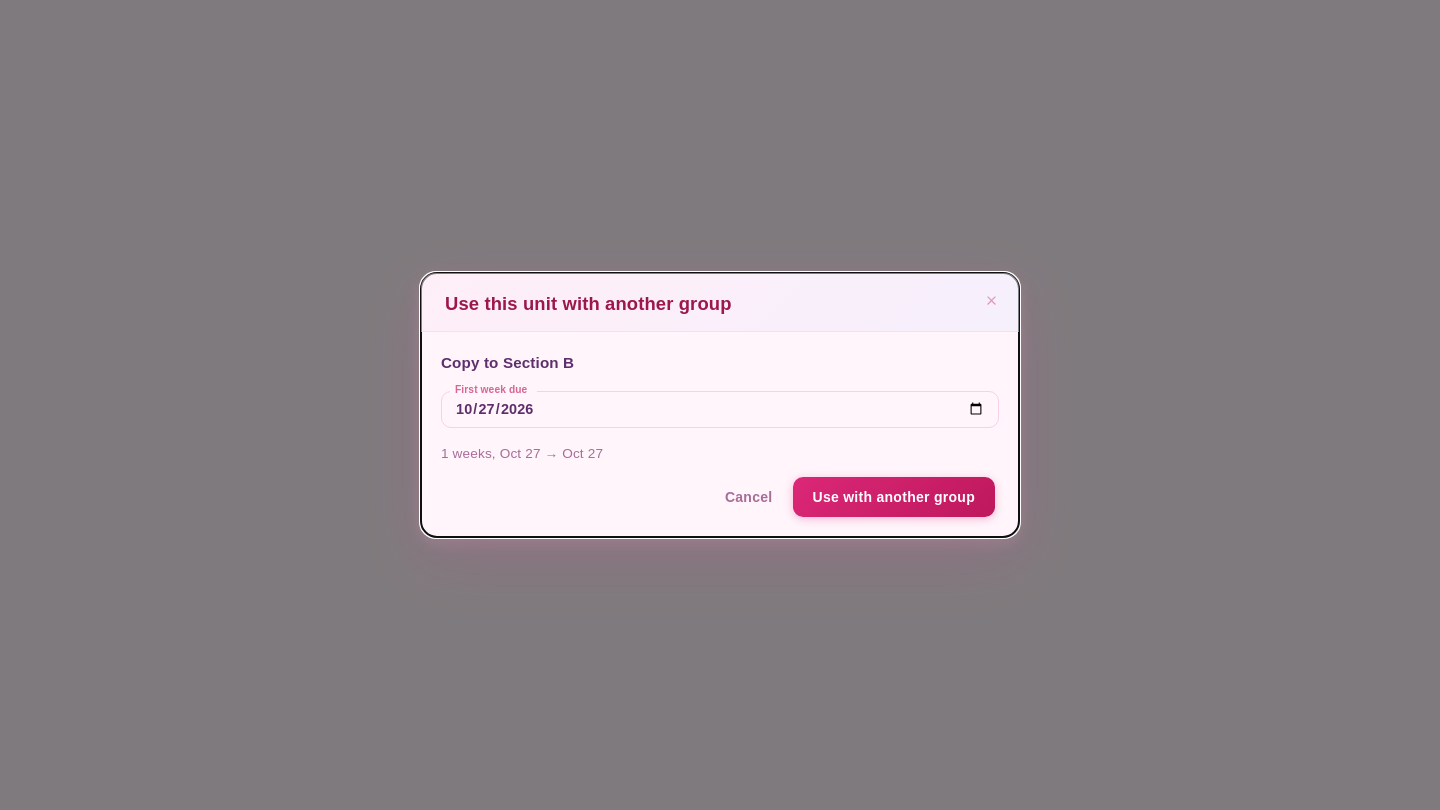
Test: CopyUnitDialog › shows the "every week already handed out" message on a nothing_to_copy outcome
The width and height of the screenshot is (1440, 810).
Click the button "Use with another group" at (894, 497), box x1=792 y1=477 x2=995 y2=517
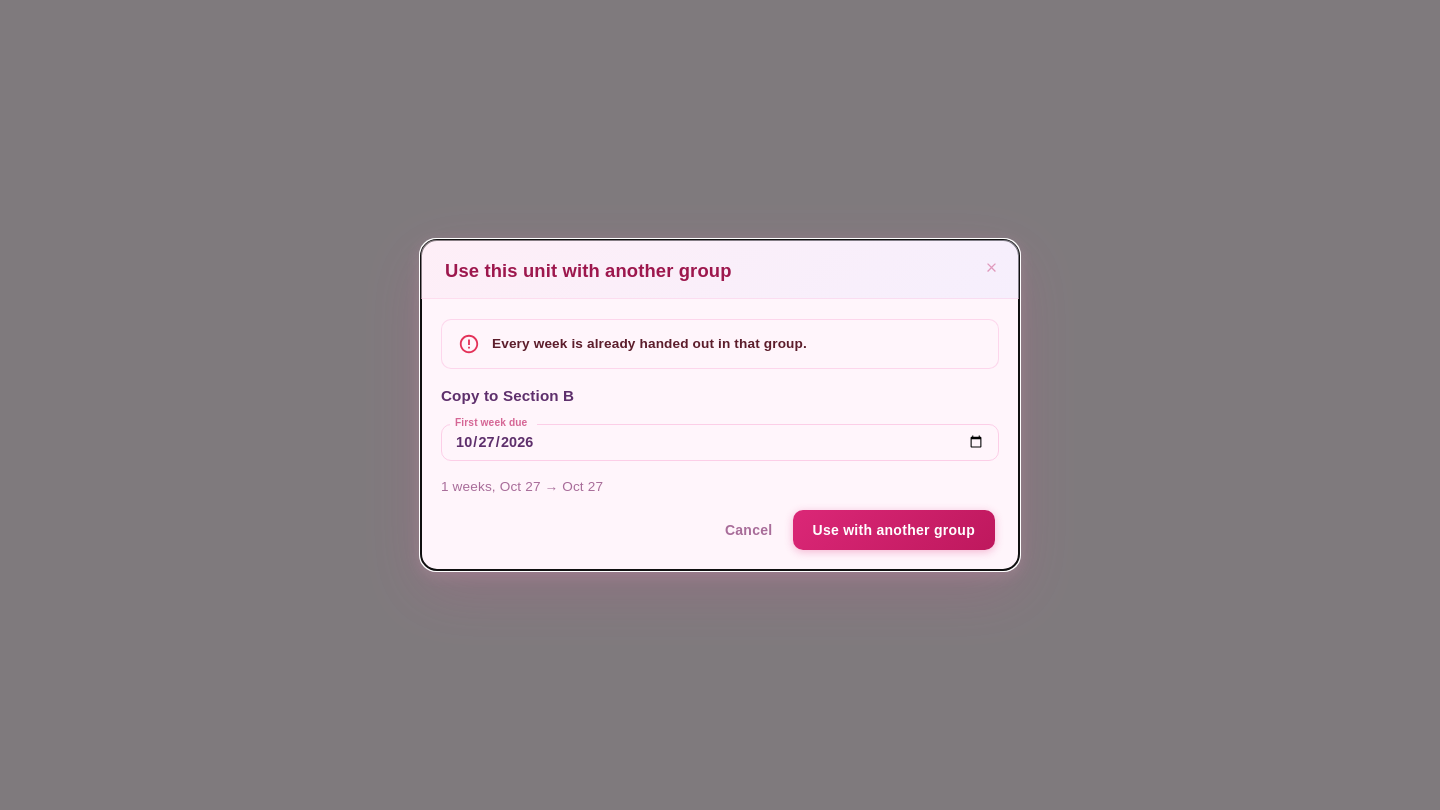
Now the text "Every week is already handed out in that group." is shown, box x1=492 y1=336 x2=807 y2=351
